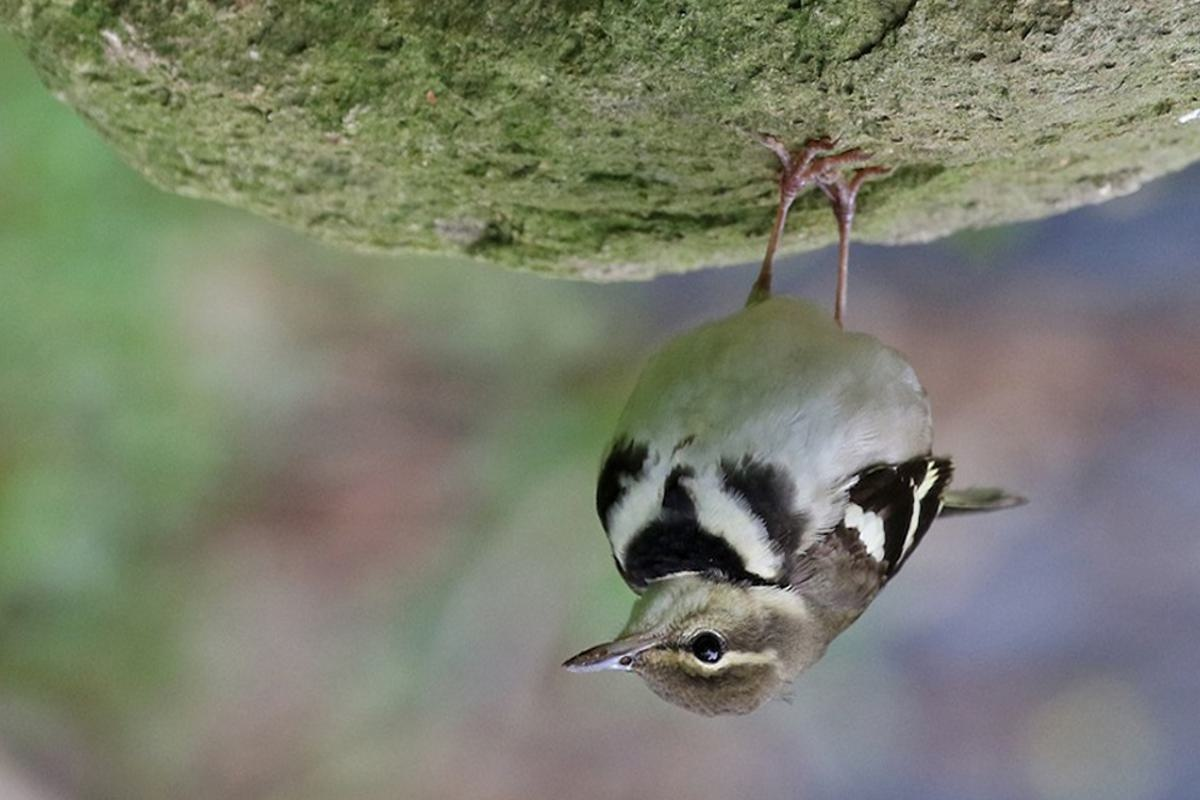wagtail: (557, 165, 968, 738)
